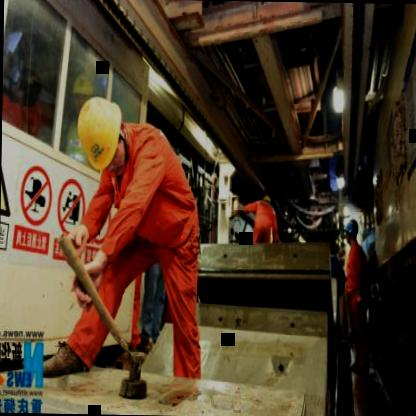helmet: (70, 92, 130, 180), (342, 216, 359, 251)
